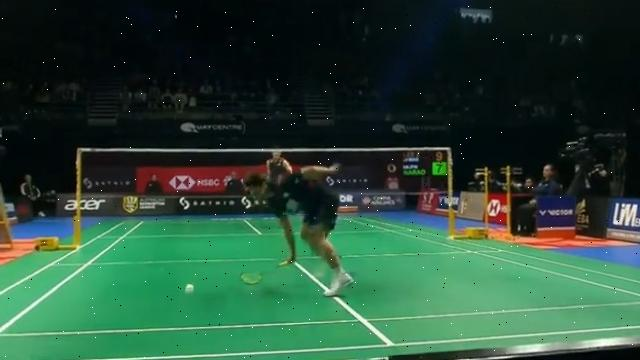Shuttlecock: (182, 280, 198, 298)
